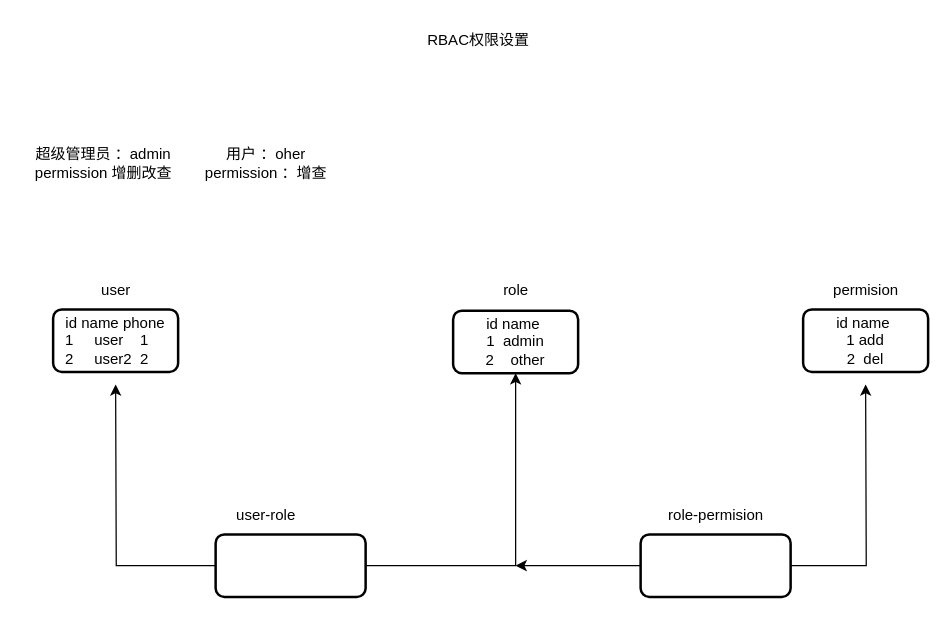
This 950x619 diagram has some shape labels left out. Here are the shapes that lost their labels. From the top down, the box of each, then its label:
(214, 532, 366, 598): uid rid 1 1 2 2
(639, 532, 791, 598): rid pid 1 1/2/3/4 2 1/3
